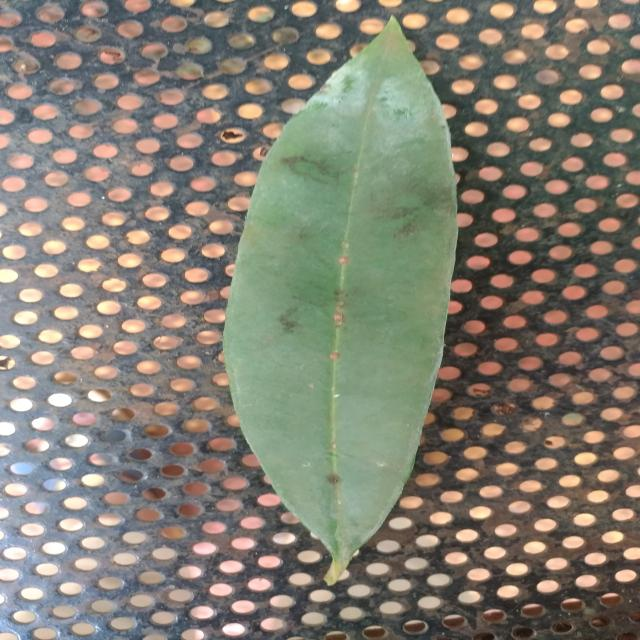nerale: (224, 19, 458, 581)
